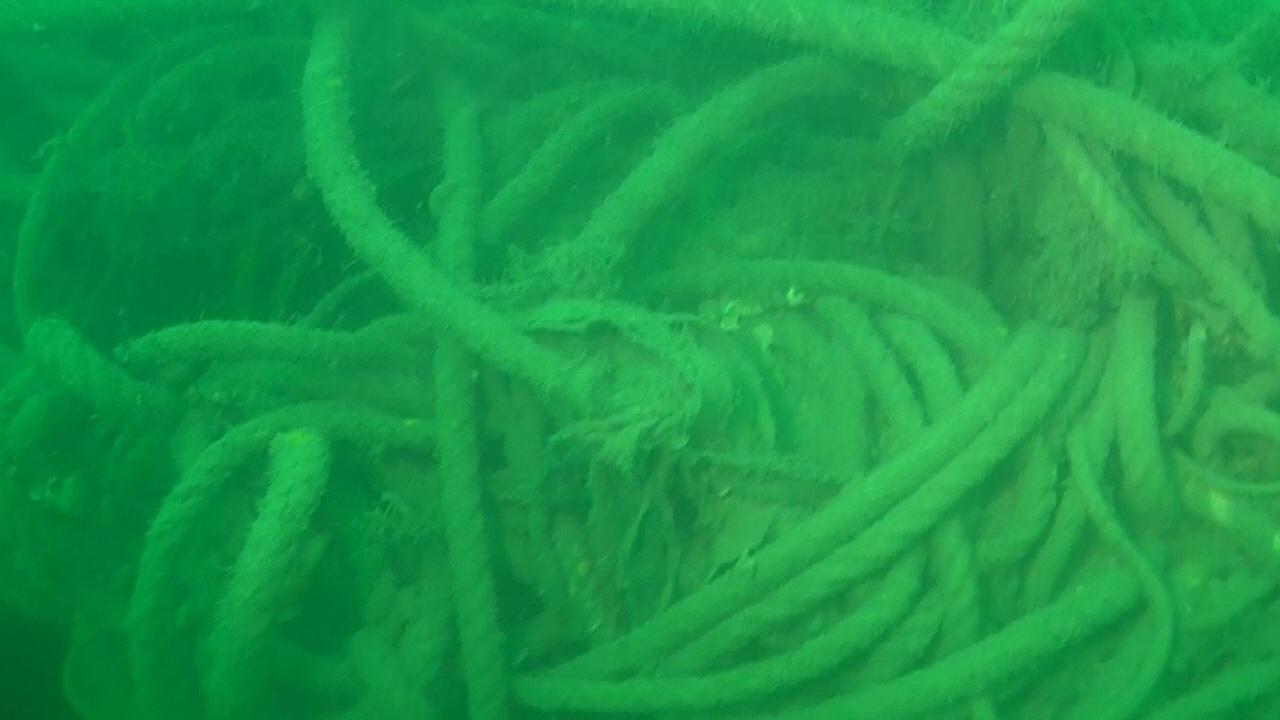bundle of ropes: (25, 0, 1280, 720)
